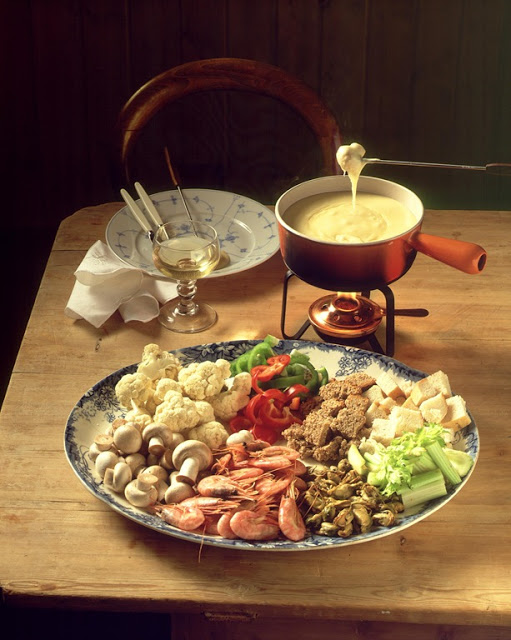cheese: (384, 390, 450, 437), (326, 196, 374, 230)
